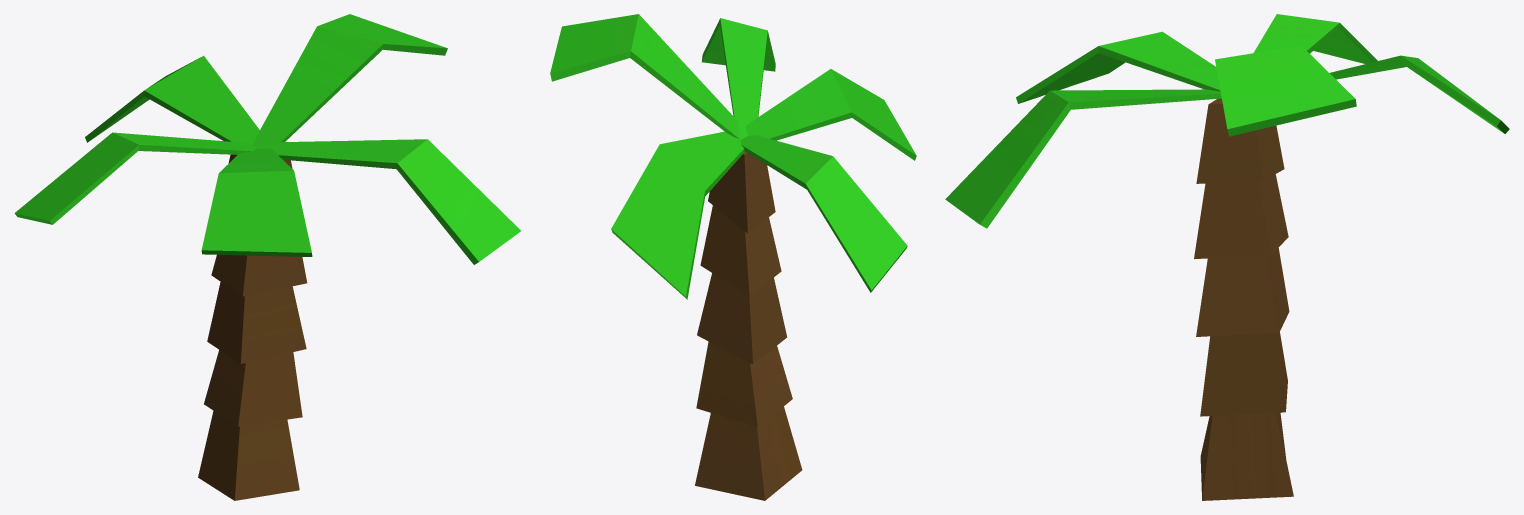
The model's file is Palmier2.fbx.
The picture shows the model from 3 angles, left to right: view 1: azimuth 30°, elevation 25°; view 2: azimuth 150°, elevation 25°; view 3: azimuth 270°, elevation 25°; orthographic projection. The views are drawn at different scales.
Visible parts, largest first — view 1: Palmier2; view 2: Palmier2; view 3: Palmier2.
Part boxes in pixels (x1,y1,x2,y2): Palmier2: (14,14,520,500); Palmier2: (550,14,916,500); Palmier2: (945,14,1509,500).
Size of the model in its own units: 478 by 521 by 542.
